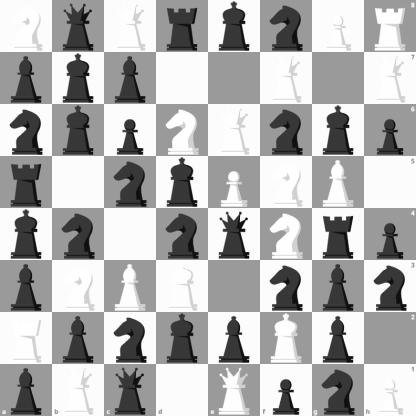B: (105, 261, 156, 312), (313, 157, 364, 208)
K: (157, 261, 208, 312), (261, 313, 312, 364)
N: (1, 1, 52, 52), (53, 261, 104, 312), (157, 105, 208, 156), (261, 157, 312, 208), (261, 209, 312, 260)
P: (364, 364, 416, 416), (209, 157, 260, 208), (313, 1, 364, 52)
Q: (52, 364, 104, 416), (364, 52, 416, 104), (209, 364, 260, 416), (105, 1, 156, 52), (209, 105, 260, 156), (261, 53, 312, 104)
R: (364, 0, 416, 52), (1, 313, 52, 364)
b: (0, 364, 52, 416), (1, 53, 52, 104), (1, 261, 52, 312), (53, 313, 104, 364), (105, 53, 156, 104), (209, 313, 260, 364), (313, 261, 364, 312), (313, 313, 364, 364)
board: (0, 0, 415, 415)
k: (1, 209, 52, 260), (53, 53, 104, 104), (53, 105, 104, 156), (157, 157, 208, 208), (157, 313, 208, 364), (209, 1, 260, 52), (313, 105, 364, 156)
n: (312, 364, 364, 416), (364, 260, 416, 312), (1, 105, 52, 156), (53, 209, 104, 260), (105, 157, 156, 208), (105, 313, 156, 364), (157, 209, 208, 260), (261, 1, 312, 52), (261, 105, 312, 156), (261, 261, 312, 312)
p: (260, 364, 312, 416), (364, 104, 416, 156), (364, 209, 416, 260), (105, 105, 156, 156)
q: (104, 364, 156, 416), (53, 1, 104, 52), (209, 209, 260, 260)
r: (1, 157, 52, 208), (157, 1, 208, 52), (313, 209, 364, 260)
